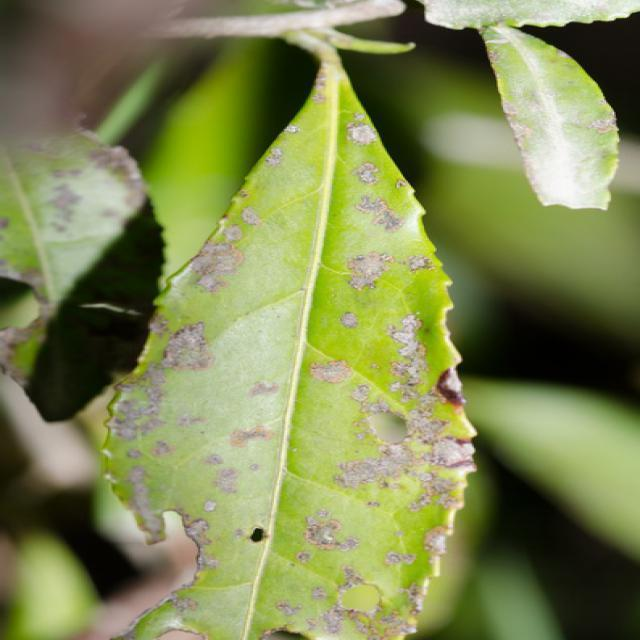Tea red rust: (123, 86, 458, 613)
